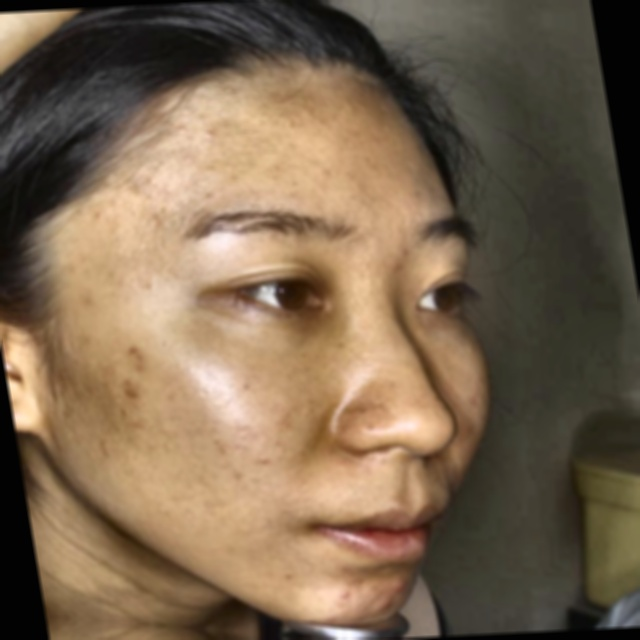comedone: (117, 336, 166, 382), (111, 380, 161, 411)
